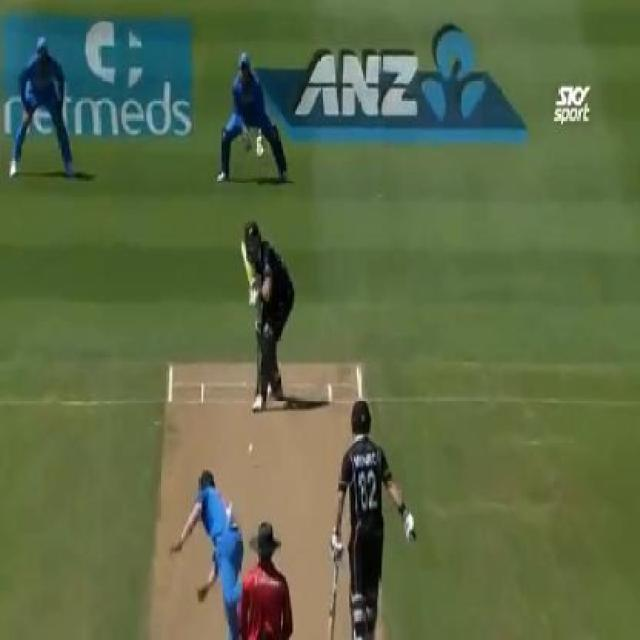Cricket ball: (246, 442, 259, 458)
